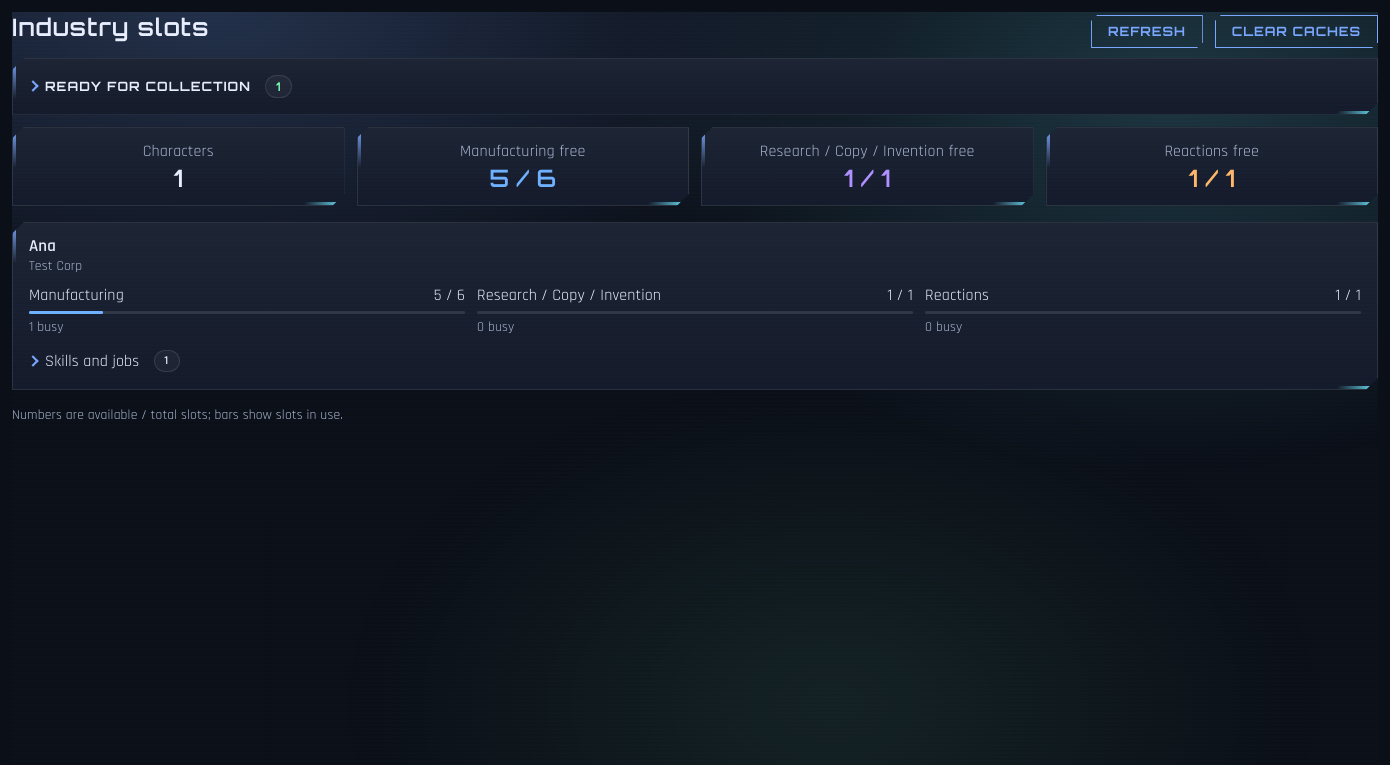
Test: IndustrySlots › lists running jobs and skills under the character
Click the heading "Skills and jobs 1" at x=112, y=361, box [45, 350, 180, 372]
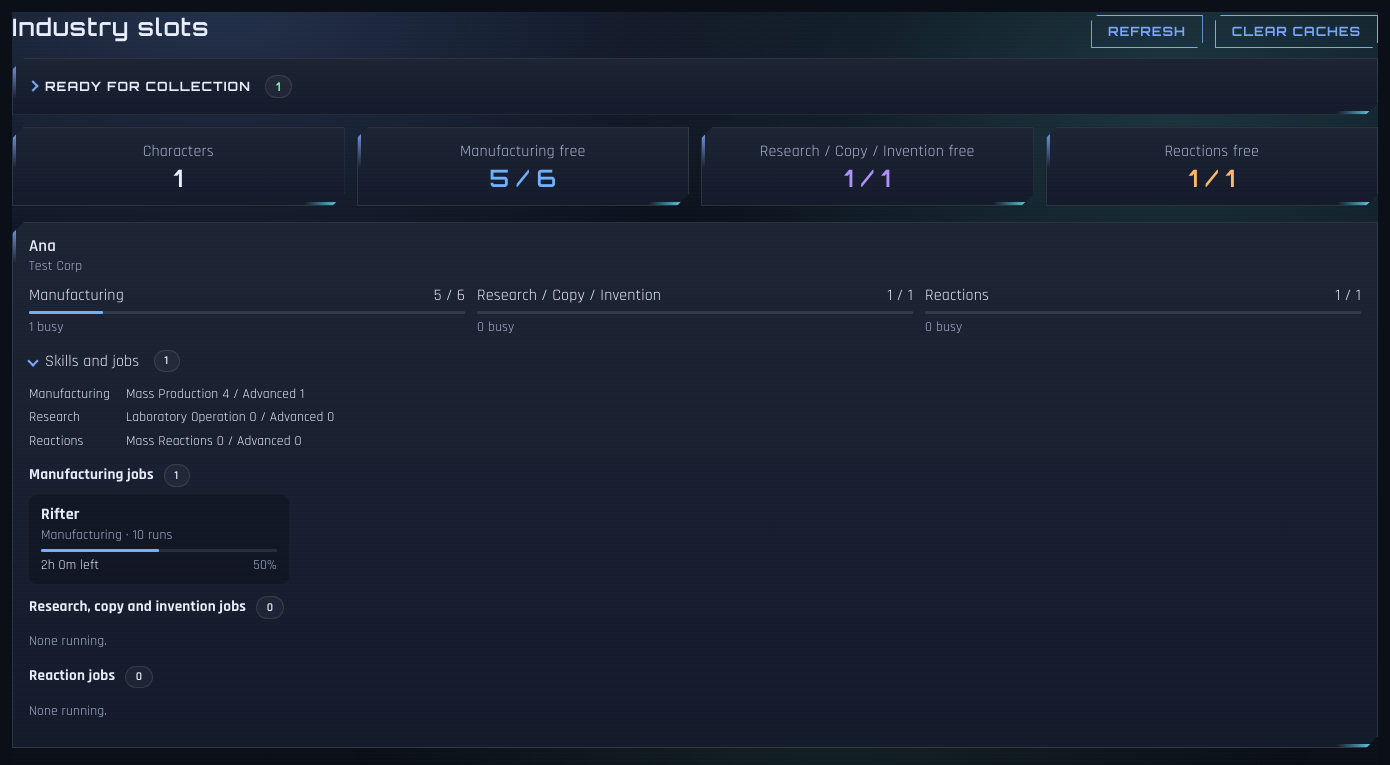
Expected: the text "Rifter" is shown, [41, 504, 80, 525]
Expected: the text "2h 0m left" is shown, [41, 556, 99, 576]
Expected: the text "Mass Production 4 / Advanced 1" is shown, [126, 385, 304, 403]
